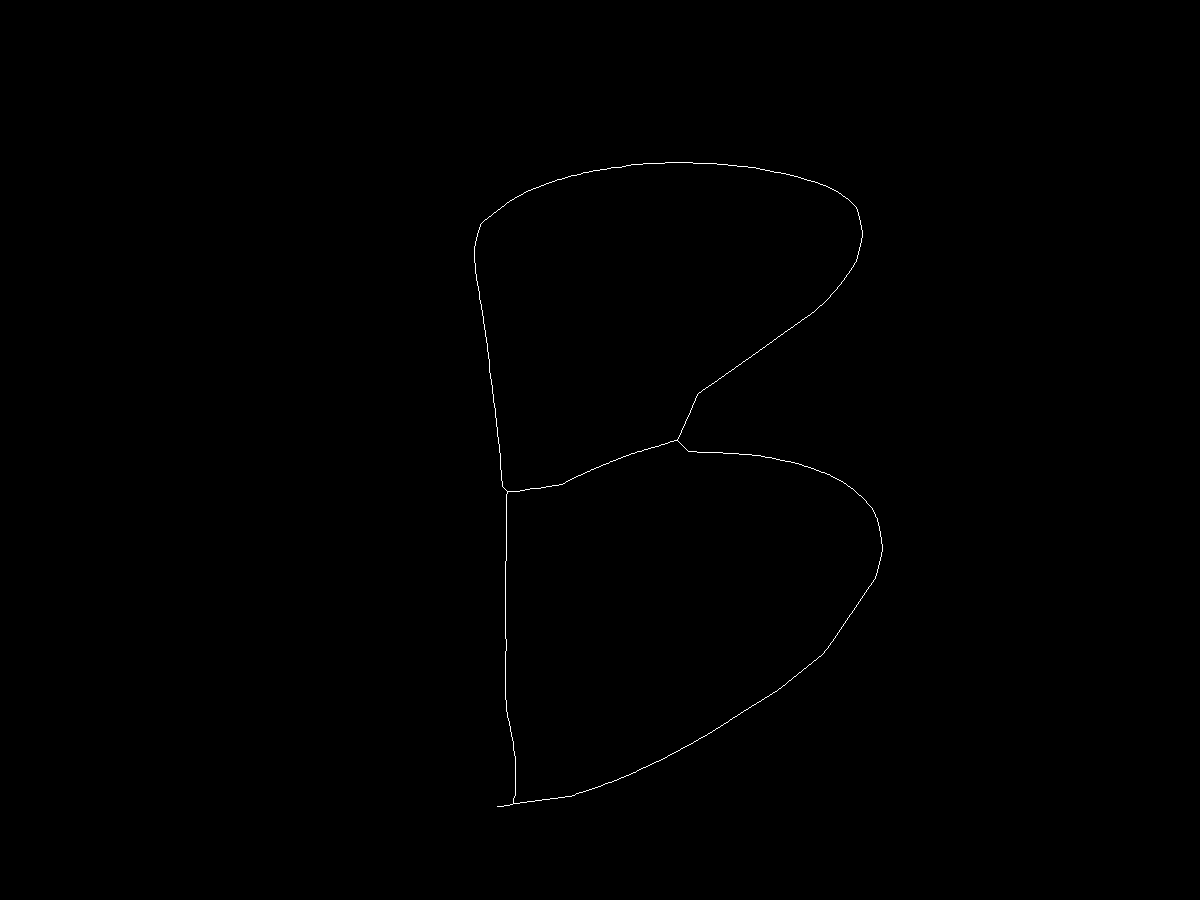dian1: (467, 214, 489, 236)
dian2: (494, 481, 516, 503)
dian3: (509, 788, 524, 803)
dian4: (673, 433, 690, 450)
